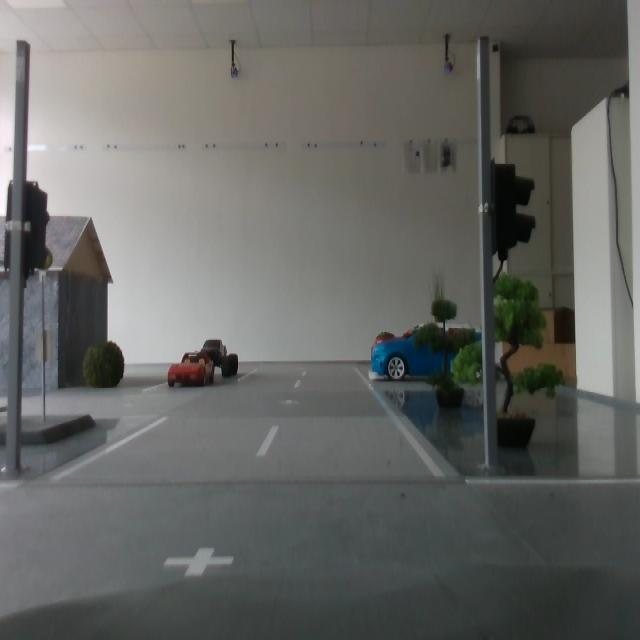car: (370, 324, 482, 381), (168, 351, 218, 391), (199, 340, 242, 381)
potted plant: (452, 272, 569, 451), (417, 298, 479, 413), (81, 338, 126, 392), (429, 265, 446, 360), (373, 332, 398, 368)
traffic light: (490, 159, 537, 263), (5, 180, 53, 277)
